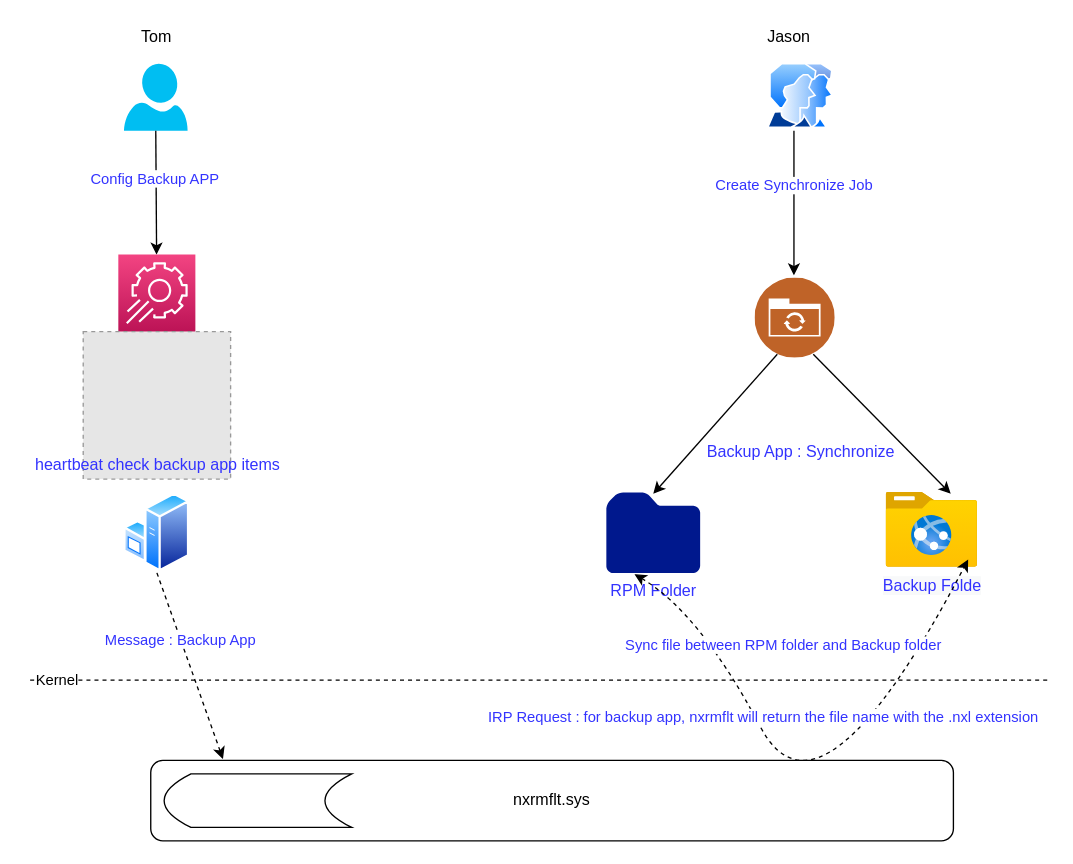
Image size: 1073x864. Some labels were removed from this diagram. Grey dashed boxes stand in for pictures. The centre of each missing label's shape, as x and y in pixels:
"BACKUP APP List" belongs at pixel 257 800.
"Backup App: GoodSync" belongs at pixel 794 317.
